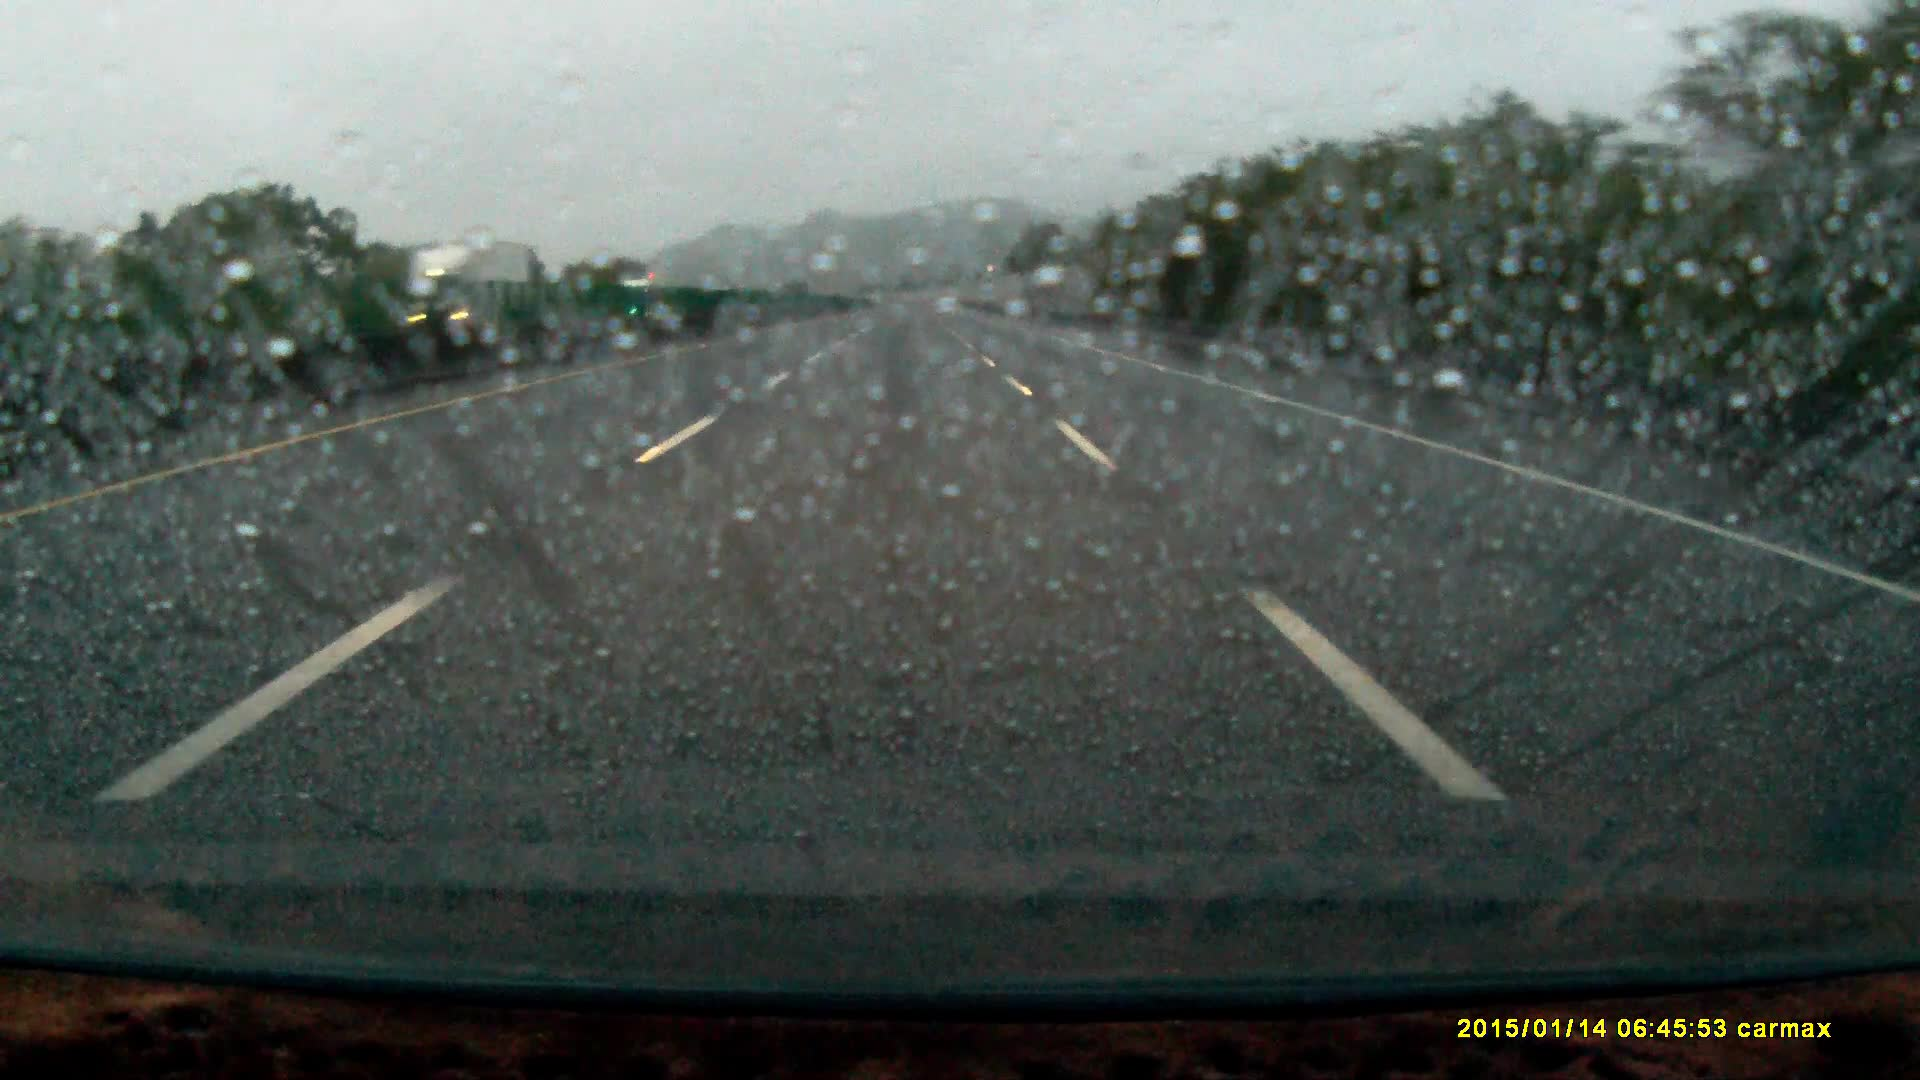vehicle: (398, 237, 549, 355), (622, 277, 675, 316)
